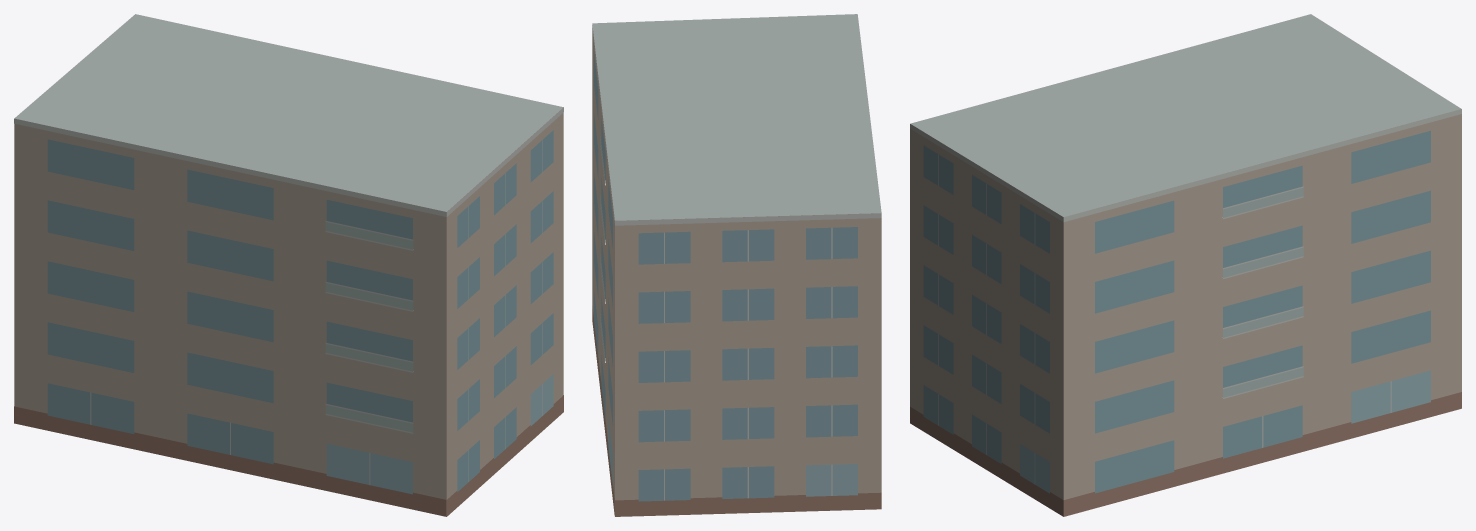
Rendered from survey-upis-32989264.glb.
The picture shows the model from 3 angles, left to right: view 1: azimuth 30°, elevation 25°; view 2: azimuth 150°, elevation 25°; view 3: azimuth 270°, elevation 25°; orthographic projection. The views are drawn at different scales.
Visible parts, largest first — view 1: survey-upis-32989264.tmp; view 2: survey-upis-32989264.tmp; view 3: survey-upis-32989264.tmp.
Boxes of the visible parts, x1,y1,x2,y2 form: survey-upis-32989264.tmp: (14,14,563,516); survey-upis-32989264.tmp: (592,14,881,516); survey-upis-32989264.tmp: (910,14,1461,516).
Bounding box in the file's own units: 21.25 × 14.6 × 24.37.
